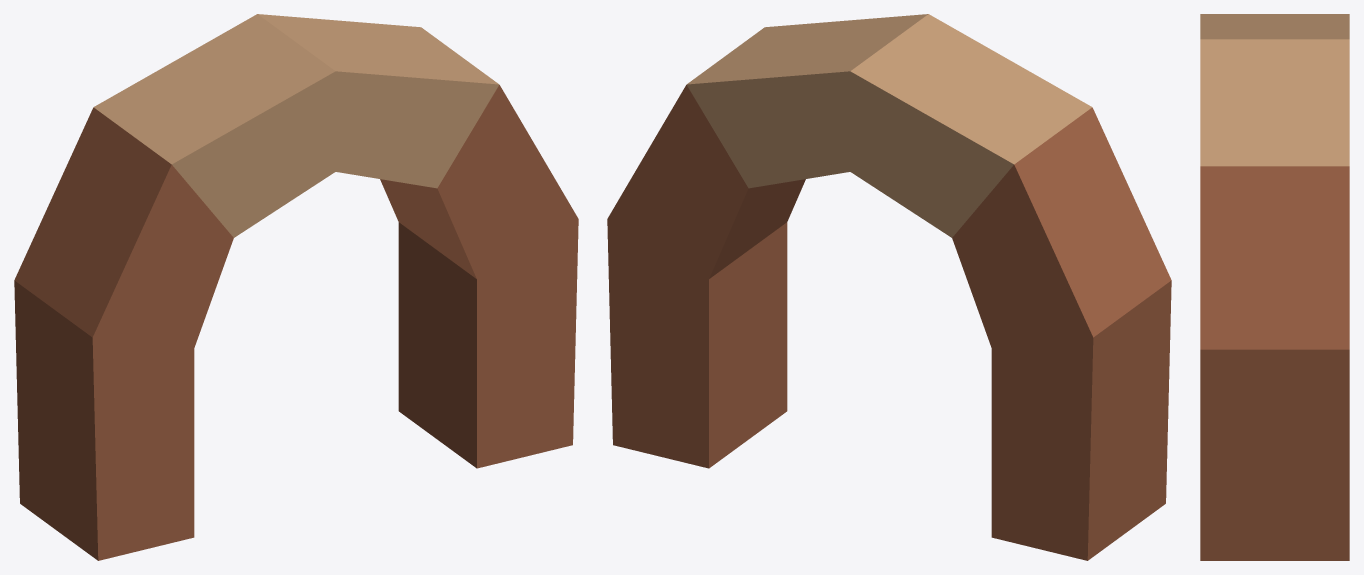
Rendered from Desert_RockArch_Simple.glb.
The picture shows the model from 3 angles, left to right: view 1: azimuth 30°, elevation 25°; view 2: azimuth 150°, elevation 25°; view 3: azimuth 270°, elevation 25°; orthographic projection. The views are drawn at different scales.
Parts seen in each view (by area): view 1: Desert_RockArch_Simple; view 2: Desert_RockArch_Simple; view 3: Desert_RockArch_Simple.
Part boxes in pixels (box(x1,y1,x2,y2)): Desert_RockArch_Simple: box(14, 14, 578, 560); Desert_RockArch_Simple: box(607, 14, 1171, 560); Desert_RockArch_Simple: box(1200, 14, 1349, 560).
Size of the model in its own units: 4.3 by 3.65 by 1.2.
